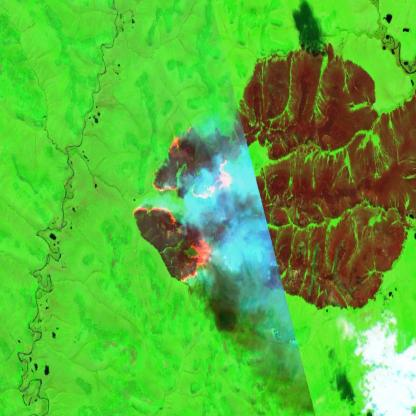fire: (132, 132, 236, 288)
